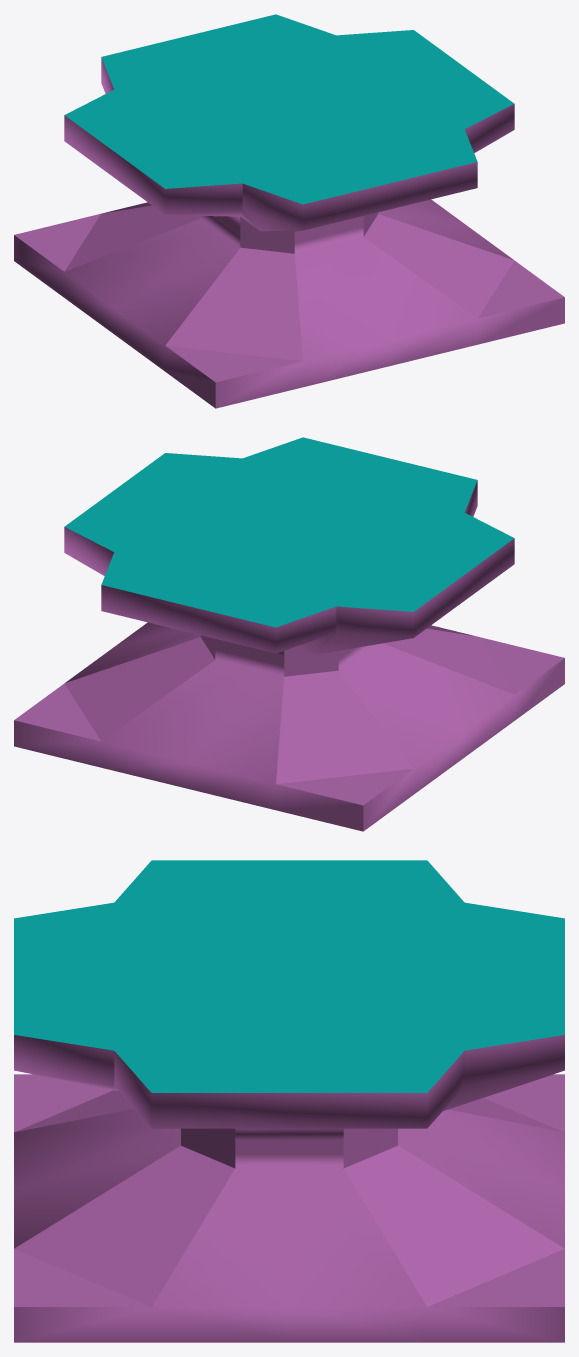
Rendered from TilePlate.fbx.
3 views of the same model, one above another, from view 1: azimuth 30°, elevation 25°; view 2: azimuth 150°, elevation 25°; view 3: azimuth 270°, elevation 25° (orthographic). The views are drawn at different scales.
Visible parts, largest first — view 1: pCube1; view 2: pCube1; view 3: pCube1.
Part boxes in pixels (left/top/right/bottom): pCube1: left=14, top=14, right=564, bottom=408; pCube1: left=14, top=437, right=564, bottom=831; pCube1: left=14, top=860, right=564, bottom=1342.
Size of the model in its own units: 1 by 0.5 by 1.
